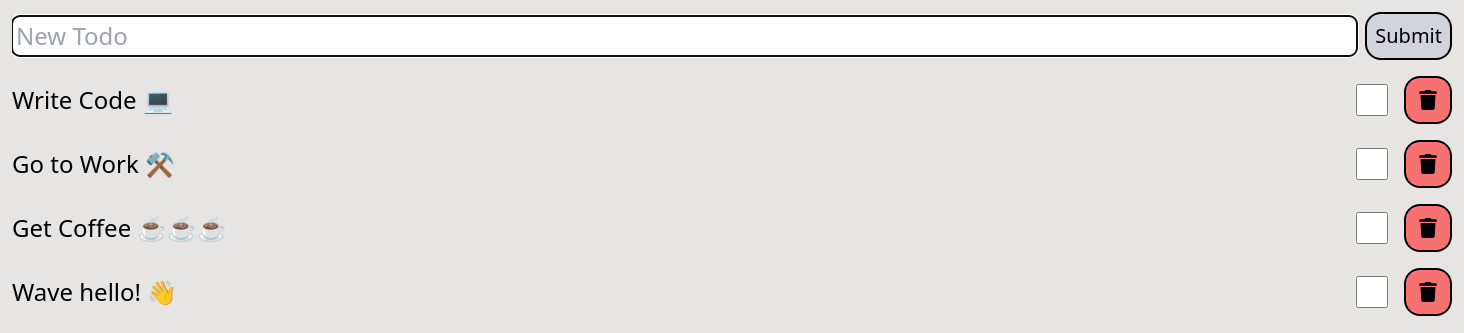
Test: Home › shoudl delete a todo
Expected: the text "Write Code 💻" is shown, [12,84,173,116]
Click the button with test id "delete-button" in the row of "Write Code 💻": {"x": 1428, "y": 100} [1404,76,1452,124]
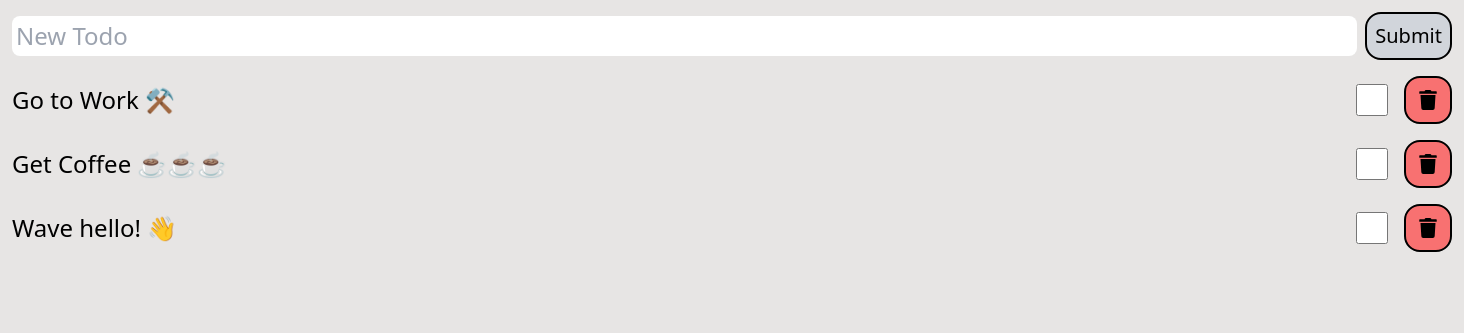
Now the text "Write Code 💻" is gone
